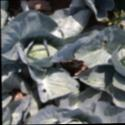cabbage: (18, 37, 56, 65), (110, 43, 125, 72)
